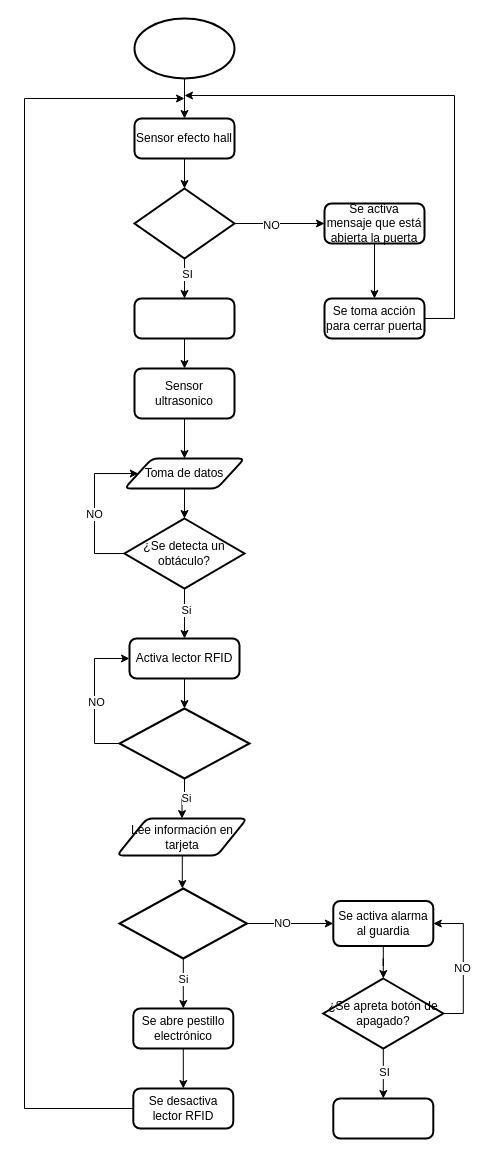
The diagram is 489 pixels wide and 1156 high, and some of its shapes have lost their labels. Here are the shapes that lost their labels. From the top down, the box of each, then its label:
(133, 17, 235, 79): Inicio
(133, 187, 235, 259): ¿La puerta está cerrada?
(133, 297, 235, 339): Se cierra pestillo electrónico
(118, 707, 250, 779): ¿Hubo lectura de tarjeta?
(118, 887, 248, 959): ¿Está en la base de datos?
(332, 1097, 434, 1139): Se desactiva la alarma
